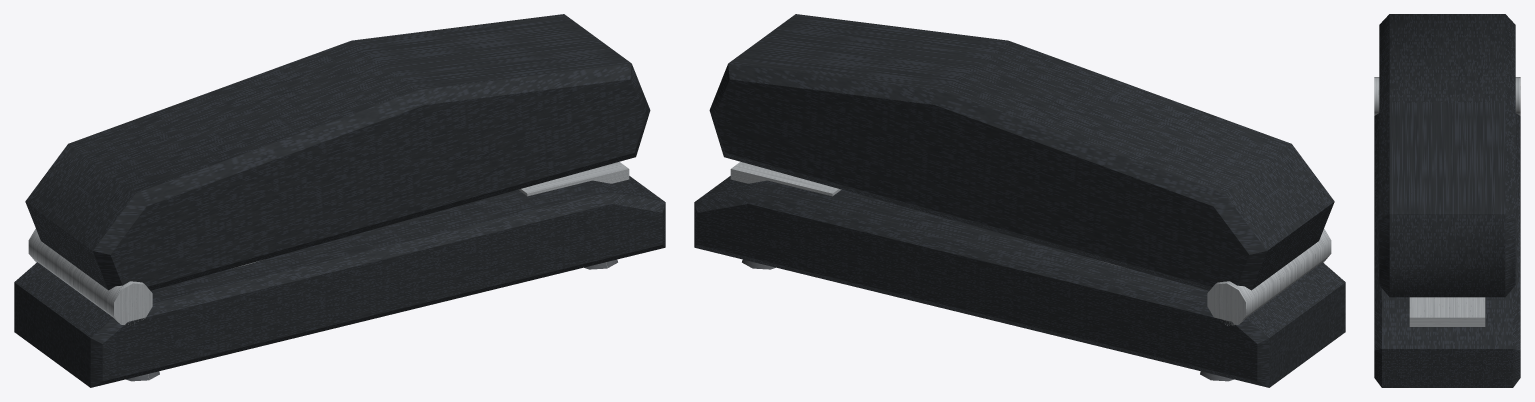
File: stapler.obj
3 views of the same model, side by side, from view 1: azimuth 30°, elevation 25°; view 2: azimuth 150°, elevation 25°; view 3: azimuth 270°, elevation 25° (orthographic). The views are drawn at different scales.
Visible parts, largest first — view 1: stapler_0_surface, stapler_1_surface; view 2: stapler_0_surface, stapler_1_surface; view 3: stapler_0_surface, stapler_1_surface.
Part boxes in pixels (box(x1,y1,x2,y2)): stapler_0_surface: box(14, 14, 665, 387); stapler_1_surface: box(28, 161, 629, 324); stapler_0_surface: box(694, 14, 1345, 387); stapler_1_surface: box(730, 161, 1331, 325); stapler_0_surface: box(1374, 14, 1520, 387); stapler_1_surface: box(1374, 77, 1520, 326).
Size of the model in its own units: 0.226 by 0.0827 by 0.058.
Materials: 2 (2 with a texture image).
